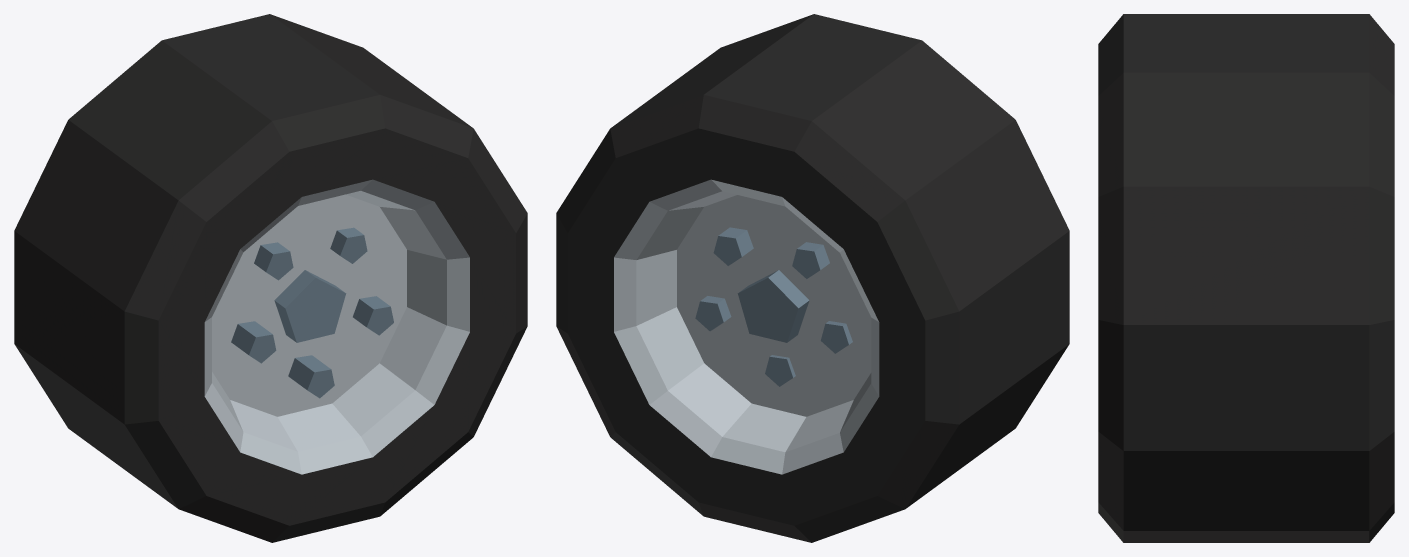
Rendered from rear_wheel.glb.
The picture shows the model from 3 angles, left to right: view 1: azimuth 30°, elevation 25°; view 2: azimuth 150°, elevation 25°; view 3: azimuth 270°, elevation 25°; orthographic projection. The views are drawn at different scales.
Visible parts, largest first — view 1: rear_wheel; view 2: rear_wheel; view 3: rear_wheel.
Boxes of the visible parts, x1,y1,x2,y2 form: rear_wheel: (14, 14, 527, 542); rear_wheel: (556, 14, 1069, 542); rear_wheel: (1098, 14, 1394, 542).
Bounding box in the file's own units: 0.5933 × 0.5933 × 0.3386.
